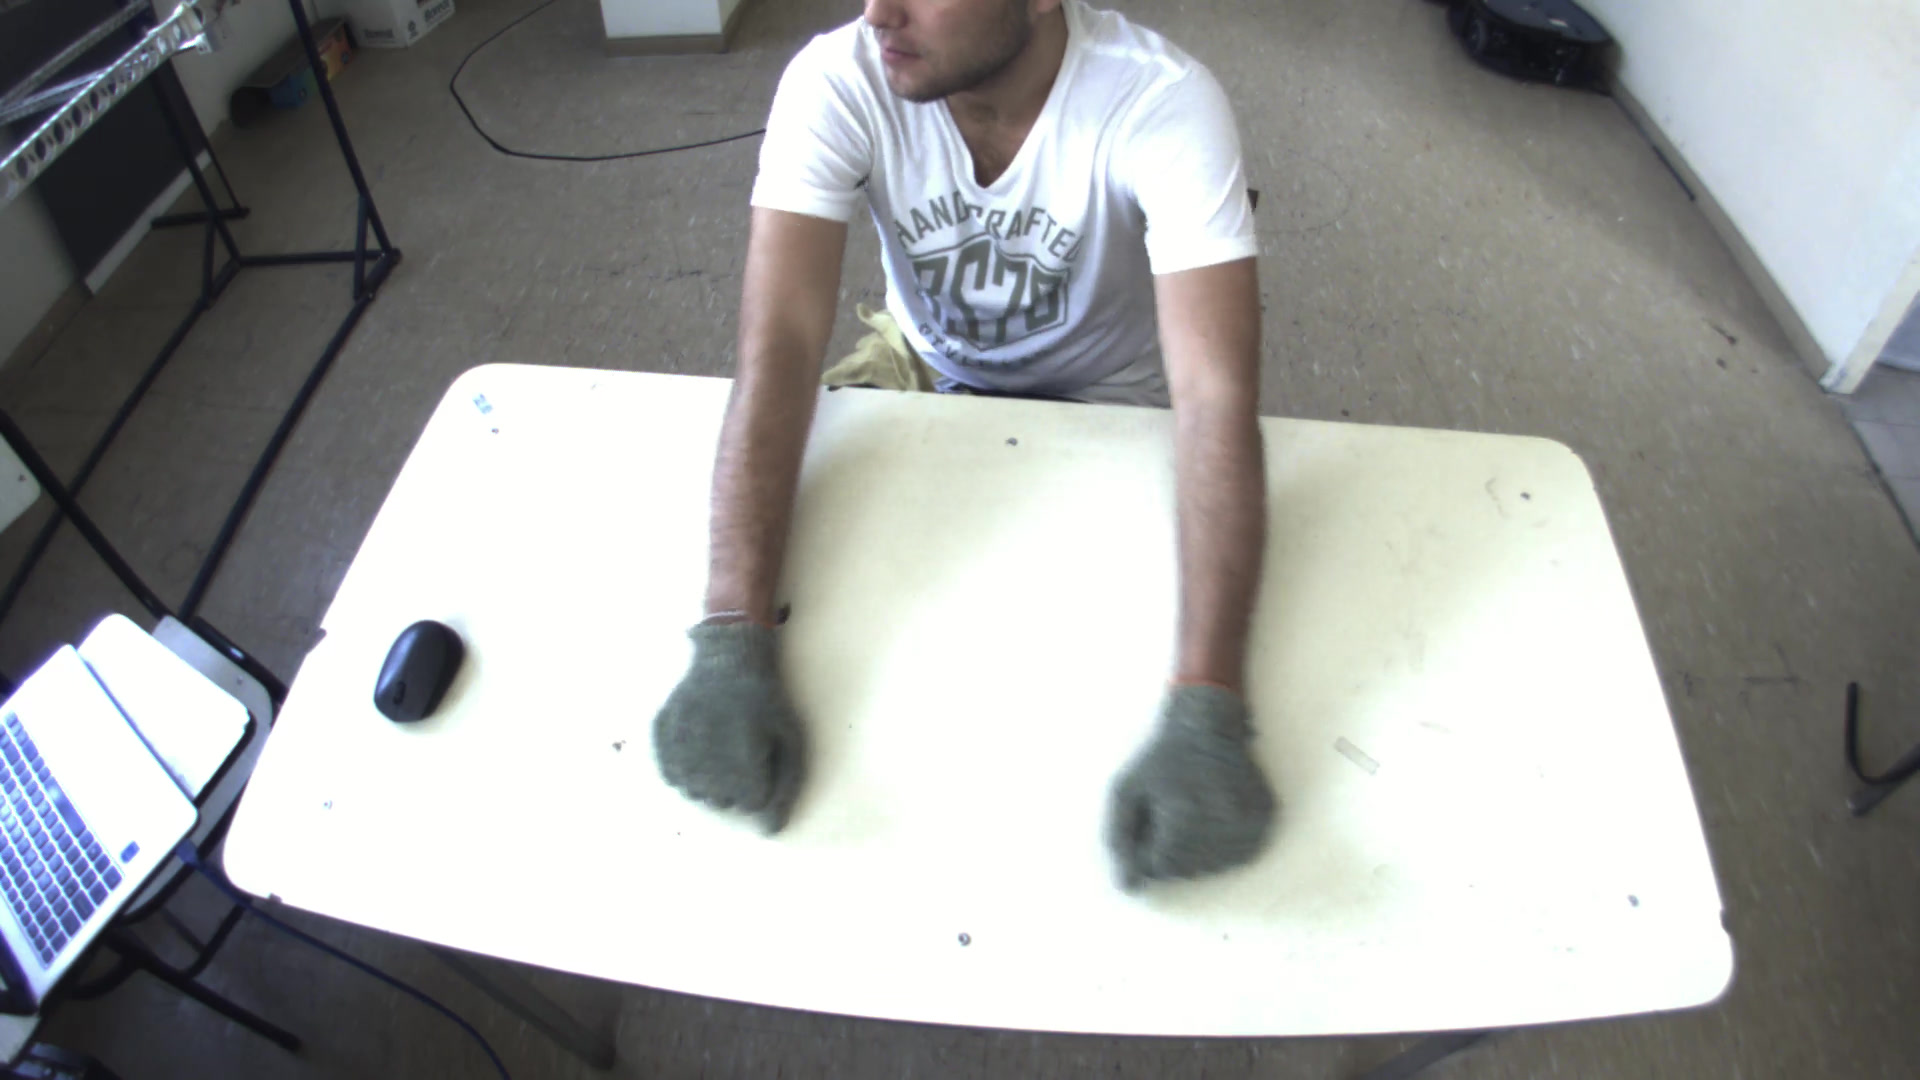hand: (1095, 675, 1287, 895), (637, 608, 814, 824)
